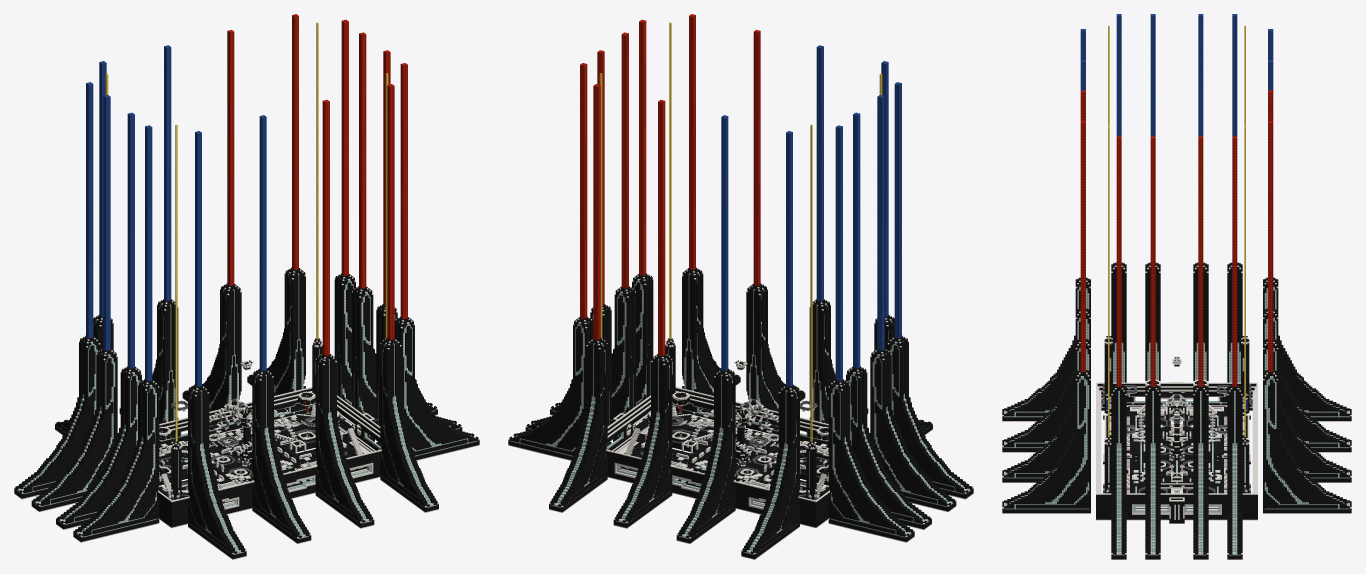
File: minecraft.obj
3 renders of one model, left to right at view 1: azimuth 30°, elevation 25°; view 2: azimuth 150°, elevation 25°; view 3: azimuth 270°, elevation 25°, orthographic.
Bounding box in the file's own units: 265 × 252 × 205.
